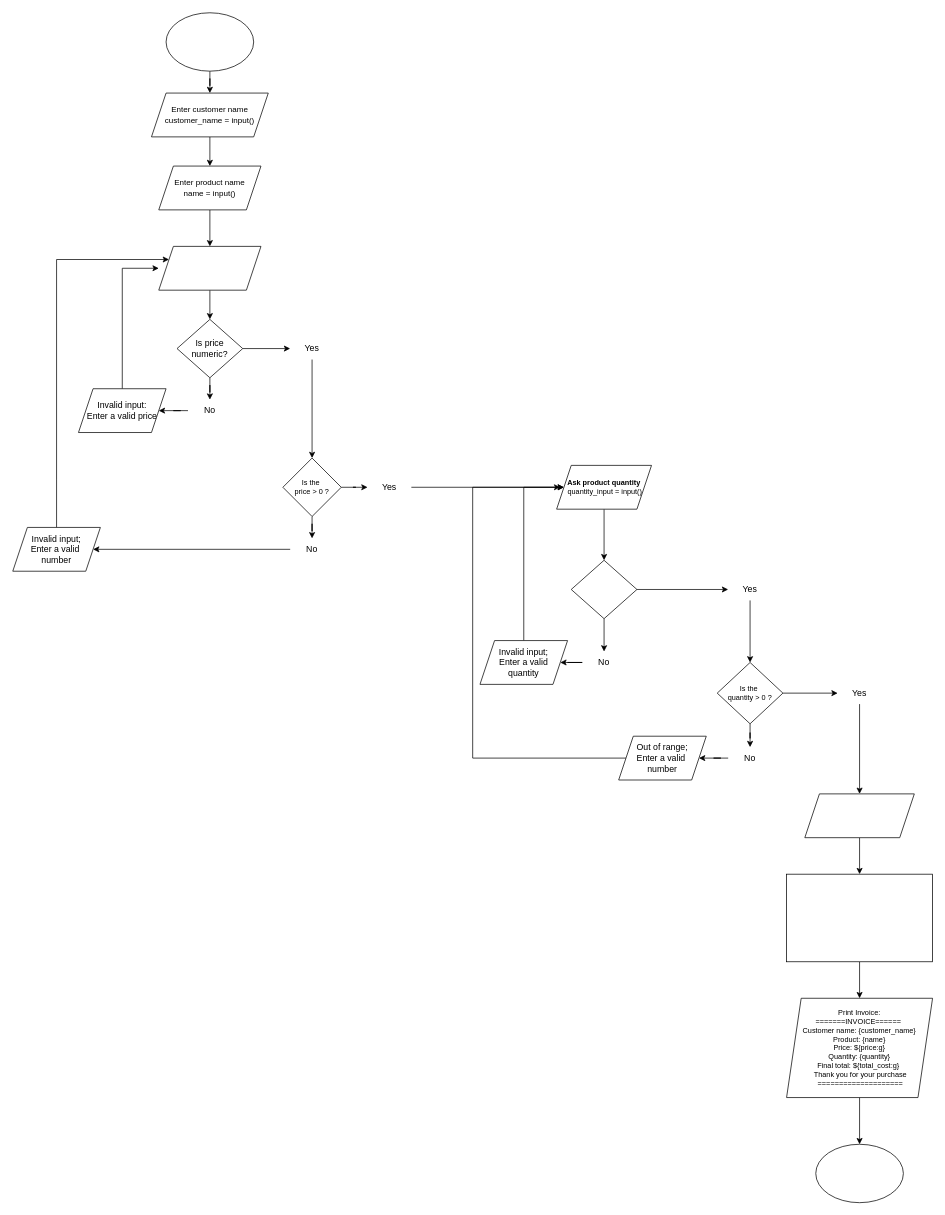
Some shapes in this 945 by 1215 pixel diagram are drawn without their labels. The centre of each missing label's shape, as x and y in pixels:
Calculate Total cost total_cost = price * quantity: pixel 859 815
Call function: print_invoice( customer_name, name, price, quantity, total_cost ): pixel 859 917
END: pixel 859 1173
Enter product price price_input = input(): pixel 209 268
Is quantity numeric?: pixel 603 589
Start: pixel 209 41
